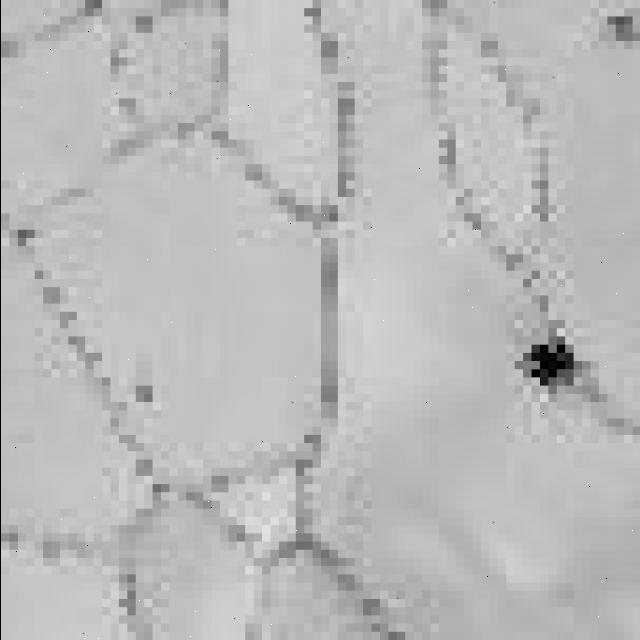good_void: (502, 327, 591, 411), (595, 8, 639, 50), (129, 368, 163, 418)
